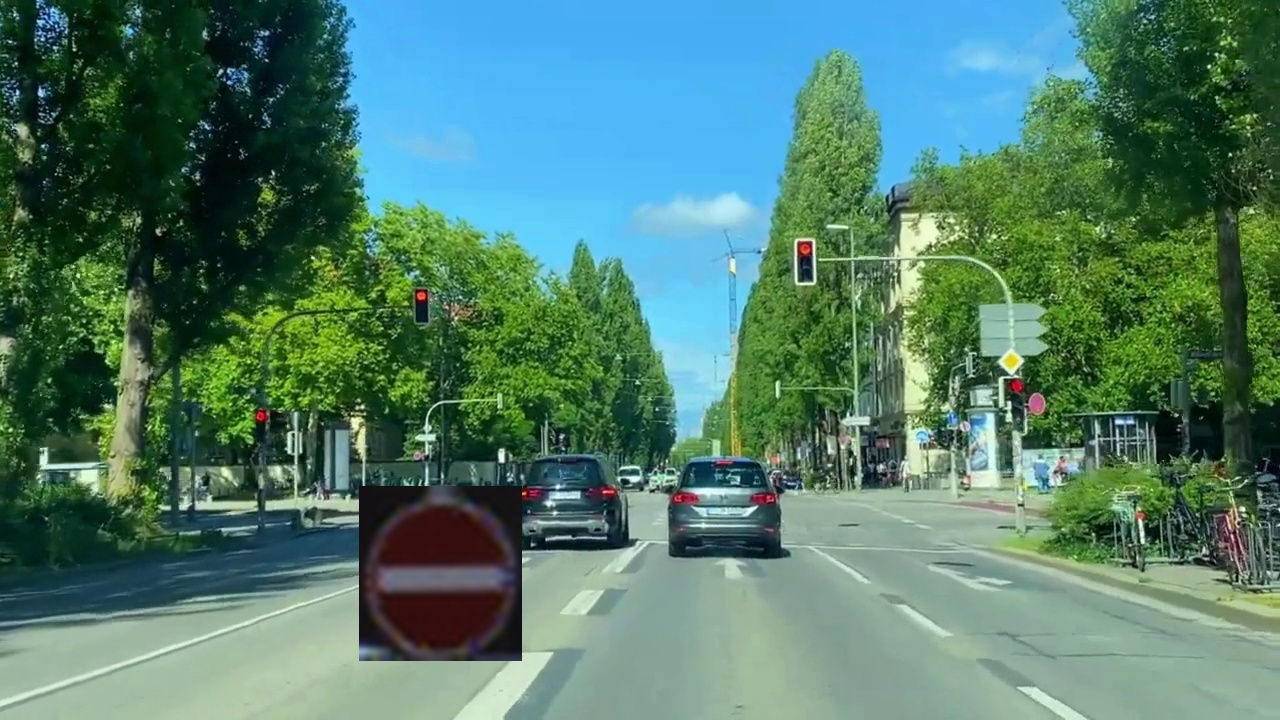No entry: (359, 486, 522, 661)
